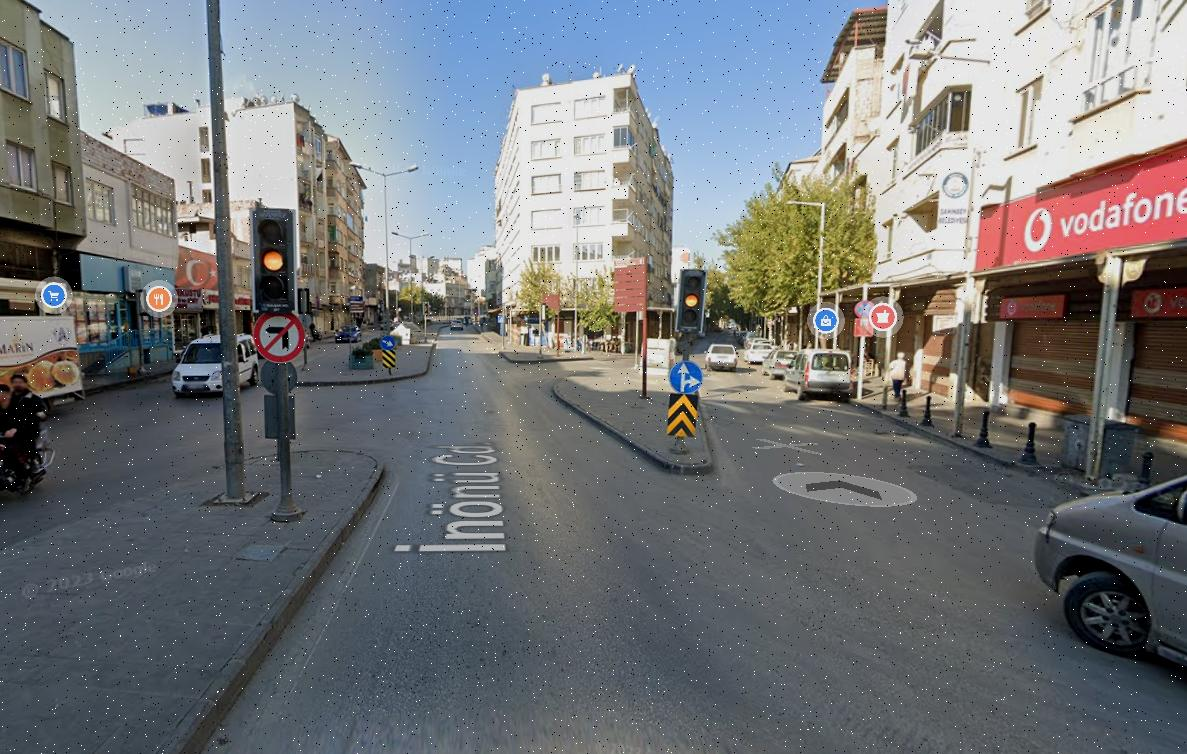leftturnsareforbidden: (251, 314, 309, 365)
yellowlight: (243, 205, 299, 314), (672, 265, 709, 340)
